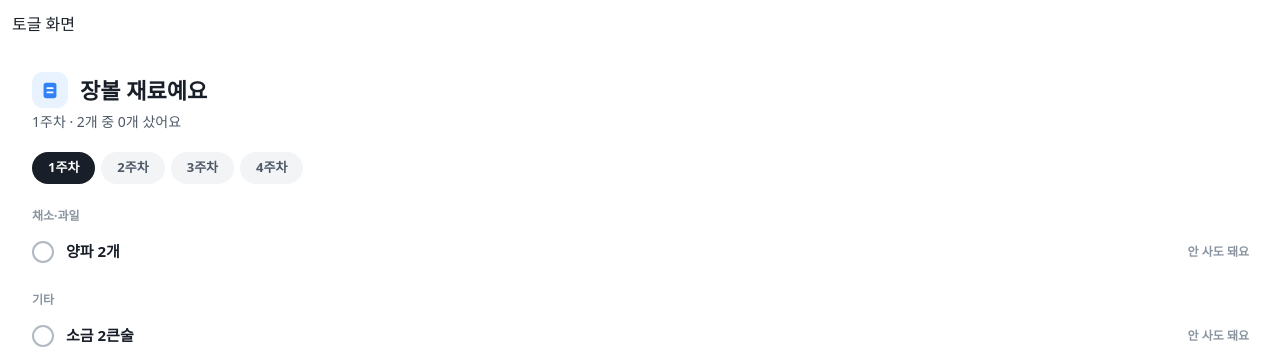
Test: ShoppingScreen › shows only the selected week and switches with the week tabs
Expected: the text "양파 2개" is shown, x1=66 y1=241 x2=120 y2=261
Expected: the text "두부 2개" is not shown
Step 1. Click the button "2주차" → (133, 168), box x1=101 y1=152 x2=165 y2=184
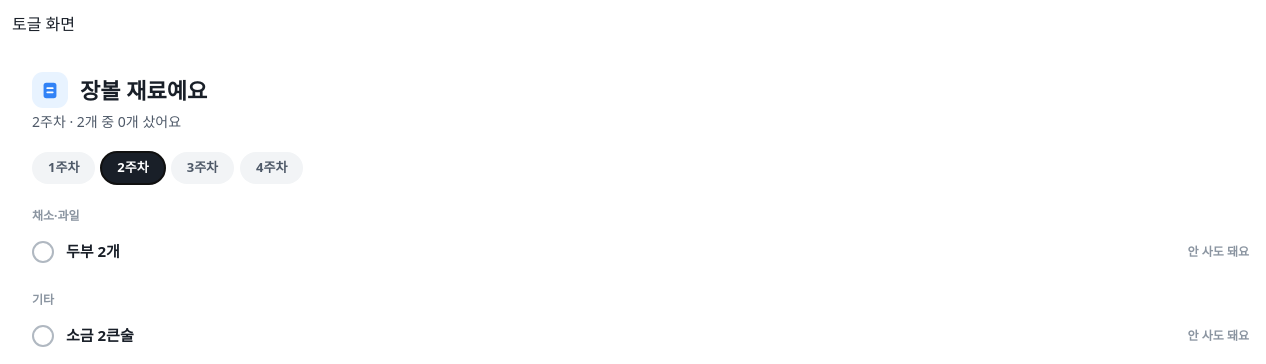
Result: the text "두부 2개" is shown at x1=66 y1=241 x2=120 y2=261
Result: the text "양파 2개" is gone
